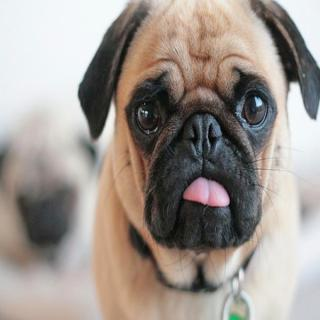dog: (78, 0, 320, 255)
nose: (178, 106, 233, 164)
